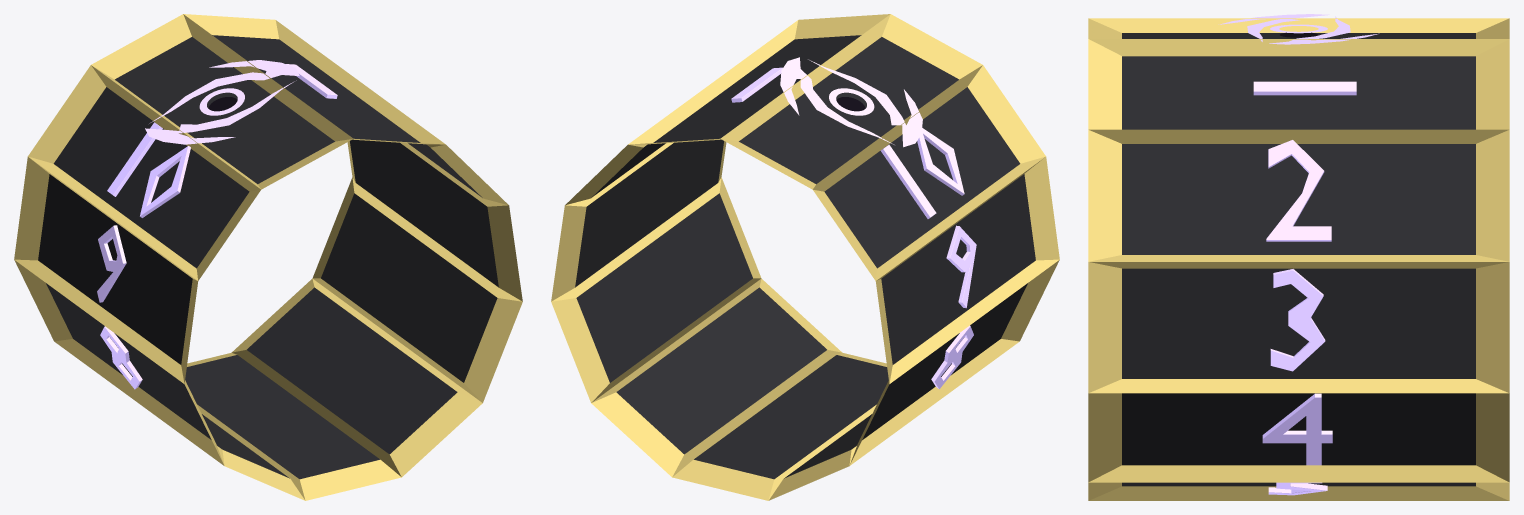
File: d11_black_hole_gold.glb
3 renders of one model, left to right at view 1: azimuth 30°, elevation 25°; view 2: azimuth 150°, elevation 25°; view 3: azimuth 270°, elevation 25°, orthographic. The views are drawn at different scales.
Visible parts, largest first — view 1: D11_Die; view 2: D11_Die; view 3: D11_Die.
Part boxes in pixels (<box>): D11_Die: <box>14,14,522,500</box>; D11_Die: <box>551,14,1059,500</box>; D11_Die: <box>1088,14,1509,500</box>.
Size of the model in its own units: 4.36 by 4.39 by 3.8.
